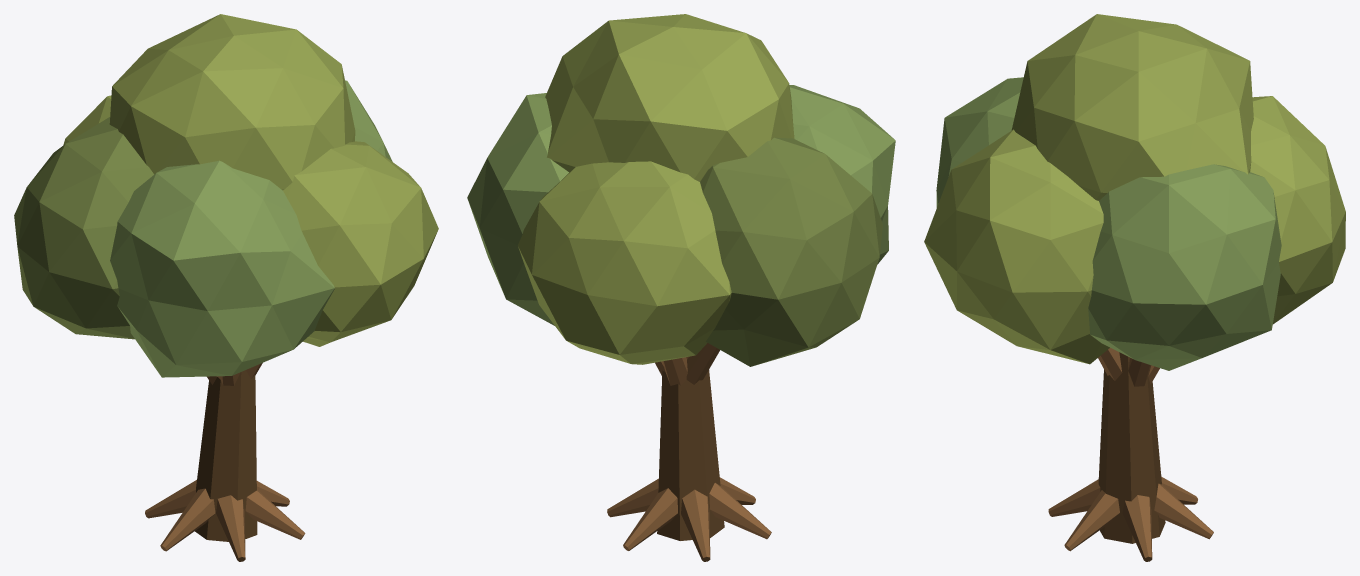
Rendered from SM_Oak_02.fbx.
3 views of the same model, side by side, from view 1: azimuth 30°, elevation 25°; view 2: azimuth 150°, elevation 25°; view 3: azimuth 270°, elevation 25° (orthographic). The views are drawn at different scales.
Visible parts, largest first — view 1: SM_Oak_02; view 2: SM_Oak_02; view 3: SM_Oak_02.
Part boxes in pixels (bbox=[...]): SM_Oak_02: bbox=[14, 14, 438, 561]; SM_Oak_02: bbox=[467, 14, 895, 561]; SM_Oak_02: bbox=[924, 14, 1345, 561].
Bounding box in the file's own units: 5.82 × 5.71 × 7.54.
